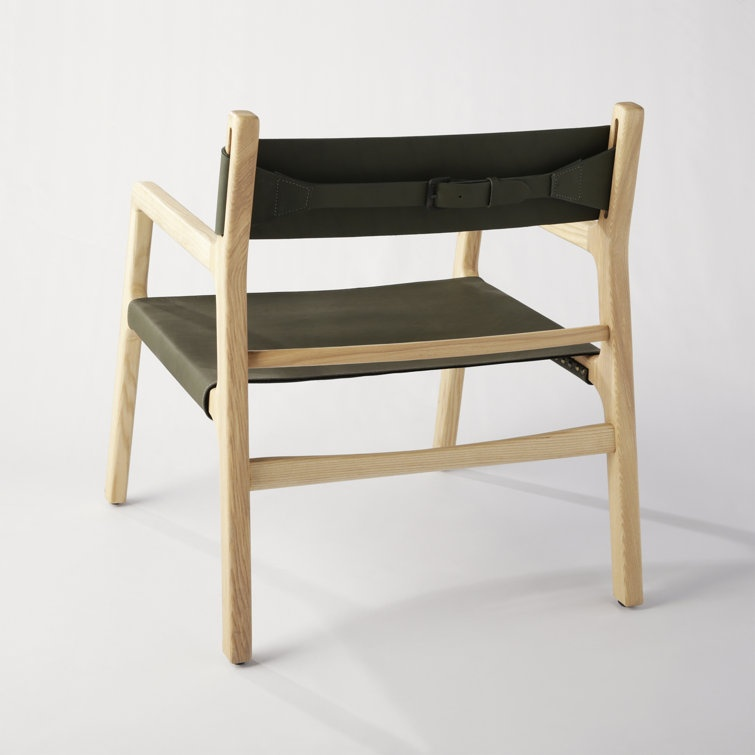obstacle: (106, 103, 642, 662)
